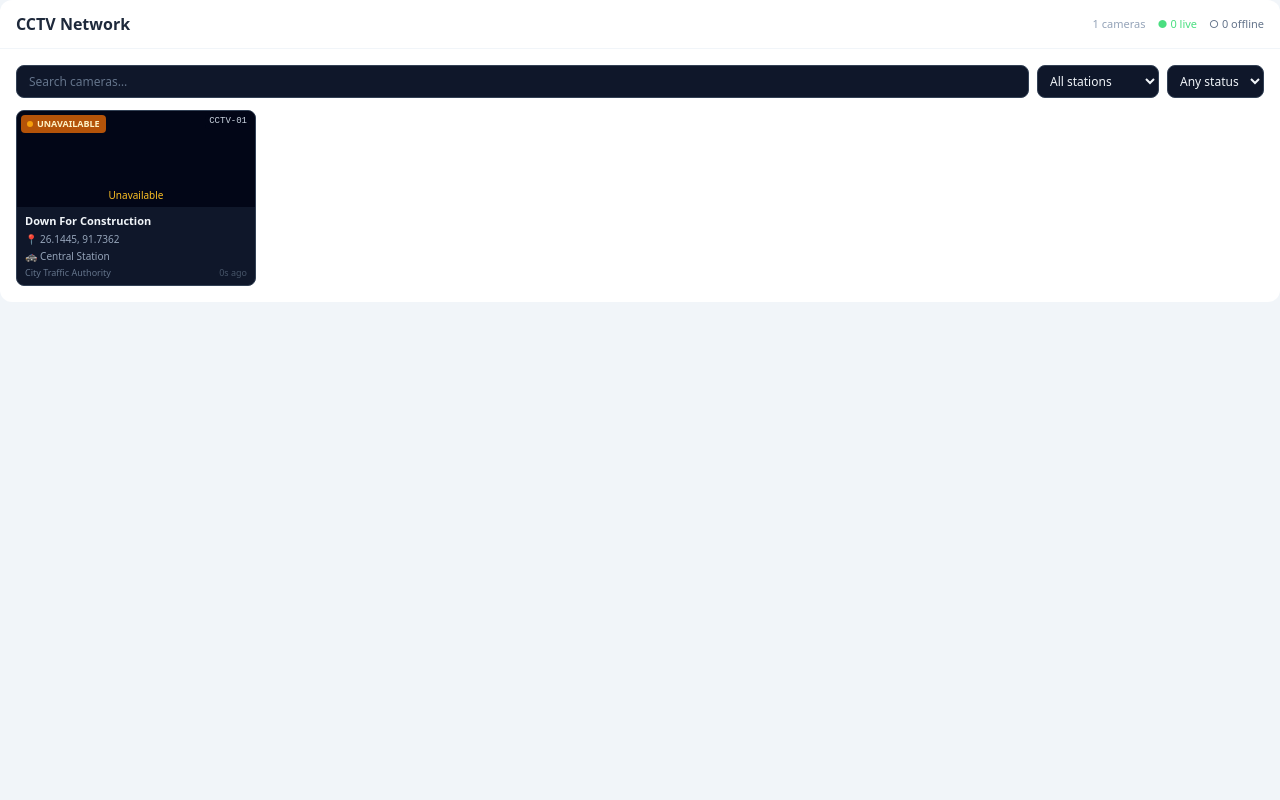
Scenario: CctvNetworkPanel › shows a camera serving an unavailable notice as such, not as live
This screenshot has width=1280, height=800.
Expected: the text "UNAVAILABLE" is shown, [21,115,106,132]
Full explanation lives in the expanded view, not the grid tile.
Click the text "Down For Construction" at coordinates (88, 220), box [25,213,151,228]
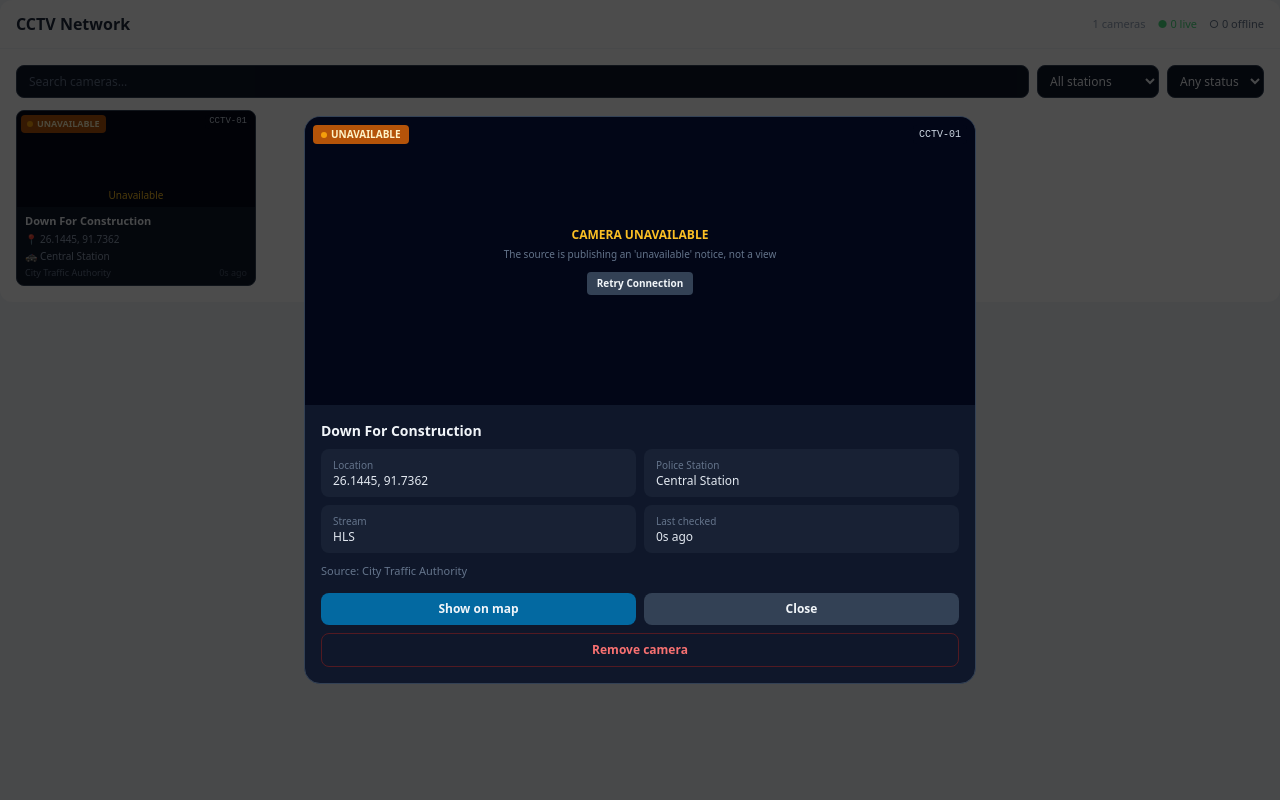
Now the text "CAMERA UNAVAILABLE" is shown, box [572,227,708,243]
